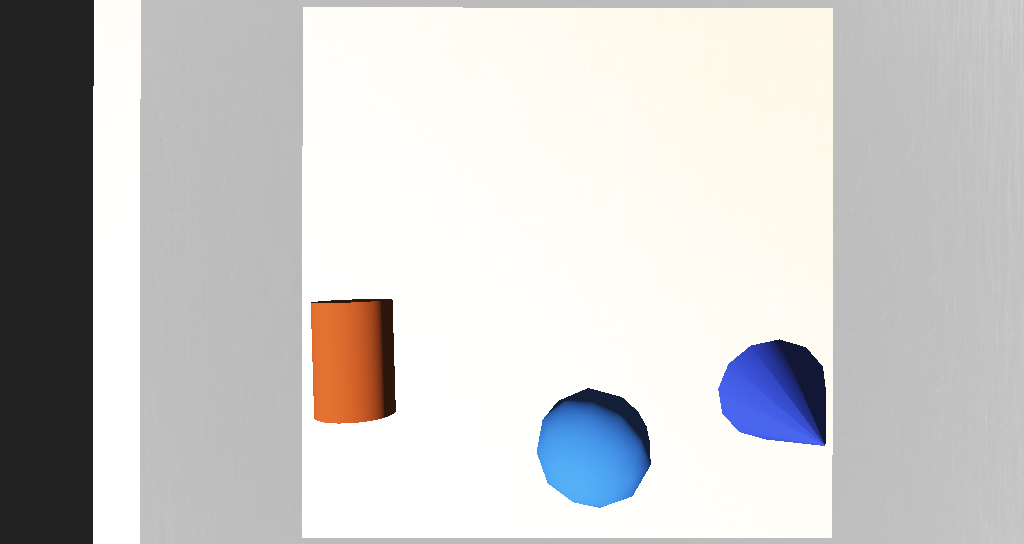cone: (357, 277, 411, 324)
cylinder: (596, 296, 670, 353)
sphere: (488, 310, 549, 358)
